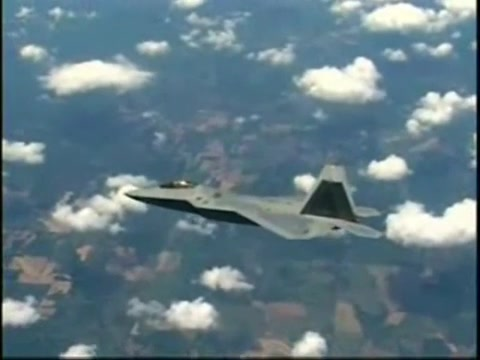aeroplane: (125, 165, 384, 243)
